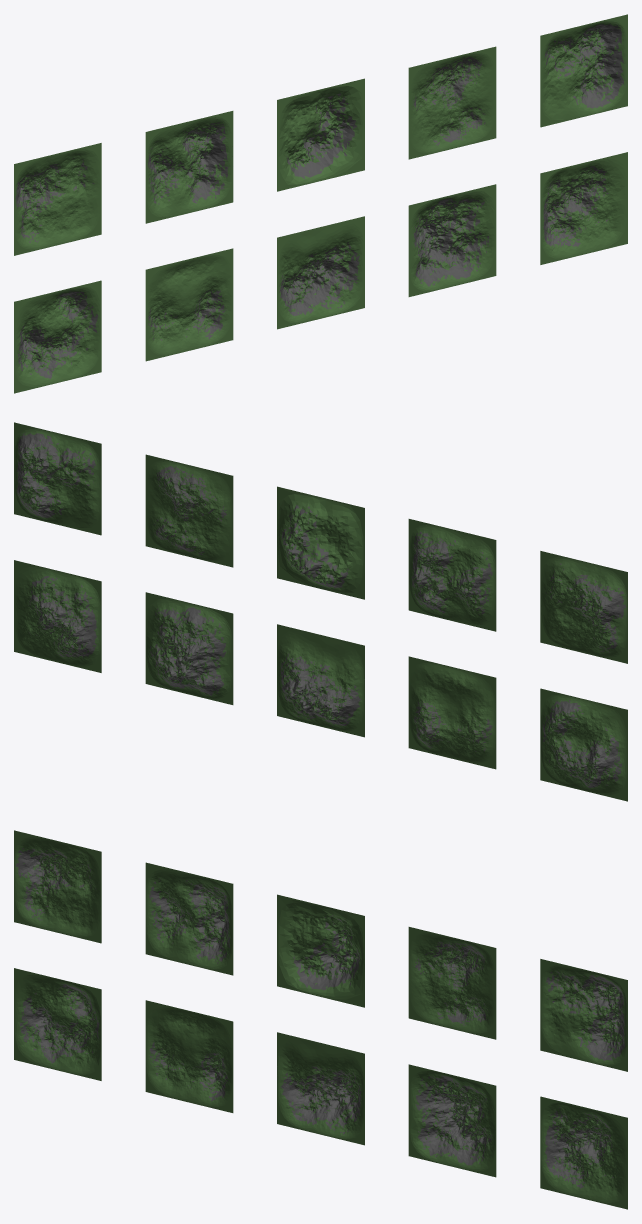
File: Terrain.fbx
The picture shows the model from 3 angles, top to bottom: view 1: azimuth 30°, elevation 25°; view 2: azimuth 150°, elevation 25°; view 3: azimuth 330°, elevation 25°; orthographic projection.
Parts seen in each view (by area): view 1: Landscape 8, Landscape 1, Landscape 7, Landscape 3, Landscape 9, Landscape 2, Landscape 10, Landscape 5, Landscape 6, Landscape 4; view 2: Landscape 1, Landscape 8, Landscape 7, Landscape 3, Landscape 9, Landscape 2, Landscape 10, Landscape 5, Landscape 6, Landscape 4; view 3: Landscape 7, Landscape 3, Landscape 8, Landscape 1, Landscape 6, Landscape 4, Landscape 10, Landscape 5, Landscape 9, Landscape 2.
Part boxes in pixels (box(x1,y1,x2,y2)): Landscape 8: box(408, 46, 496, 159); Landscape 1: box(145, 248, 233, 361); Landscape 7: box(145, 111, 233, 223); Landscape 3: box(408, 184, 496, 296); Landscape 9: box(540, 14, 627, 127); Landscape 2: box(14, 280, 101, 393); Landscape 10: box(277, 78, 364, 191); Landscape 5: box(277, 216, 364, 329); Landscape 6: box(14, 143, 101, 255); Landscape 4: box(540, 152, 627, 264); Landscape 1: box(408, 656, 496, 769); Landscape 8: box(145, 454, 233, 567); Landscape 7: box(408, 519, 496, 631); Landscape 3: box(145, 592, 233, 704); Landscape 9: box(14, 422, 101, 535); Landscape 2: box(540, 688, 627, 801); Landscape 10: box(277, 486, 364, 599); Landscape 5: box(277, 624, 364, 737); Landscape 6: box(540, 551, 627, 663); Landscape 4: box(14, 560, 101, 672); Landscape 7: box(145, 862, 233, 975); Landscape 3: box(408, 1064, 496, 1177); Landscape 8: box(408, 927, 496, 1039); Landscape 1: box(145, 1000, 233, 1112); Landscape 6: box(14, 830, 101, 943); Landscape 4: box(540, 1096, 627, 1209); Landscape 10: box(277, 894, 364, 1007); Landscape 5: box(277, 1032, 364, 1145); Landscape 9: box(540, 959, 627, 1071); Landscape 2: box(14, 968, 101, 1080).
Bounding box in the file's own units: 70000 × 25000 × 2982.
